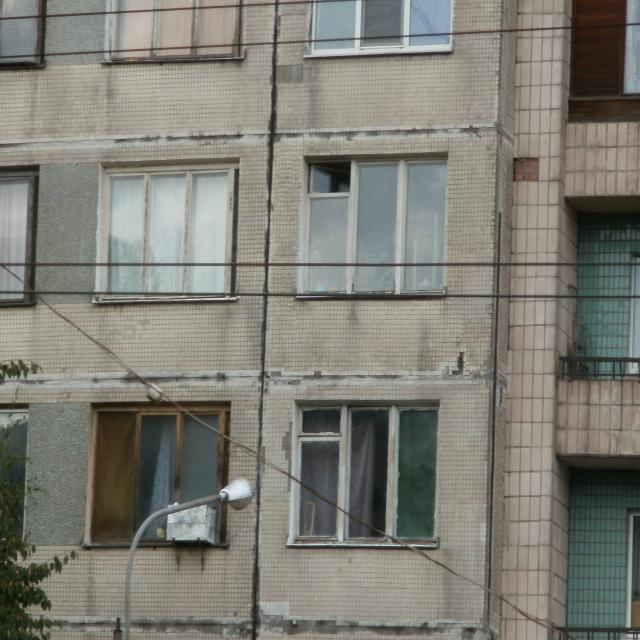Window: (300, 412, 435, 542), (93, 414, 223, 536), (310, 164, 436, 286), (110, 178, 224, 296), (120, 4, 240, 59), (317, 4, 448, 49), (3, 176, 29, 298), (0, 413, 22, 542), (4, 6, 44, 59)
